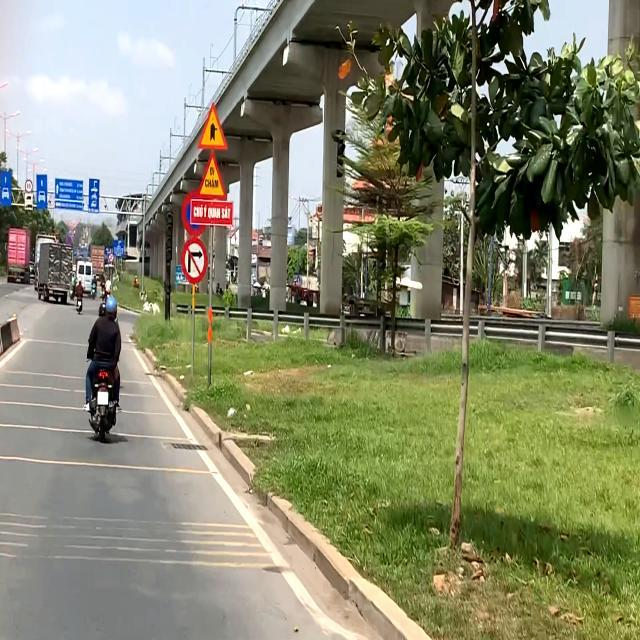P-123b: (178, 239, 210, 283)
W-207b: (199, 98, 229, 151)
W-245a: (198, 154, 228, 198)
